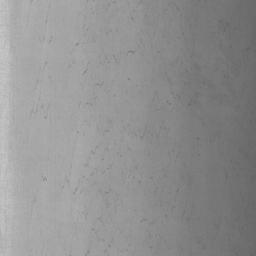Silk spot: (140, 125, 153, 140)
